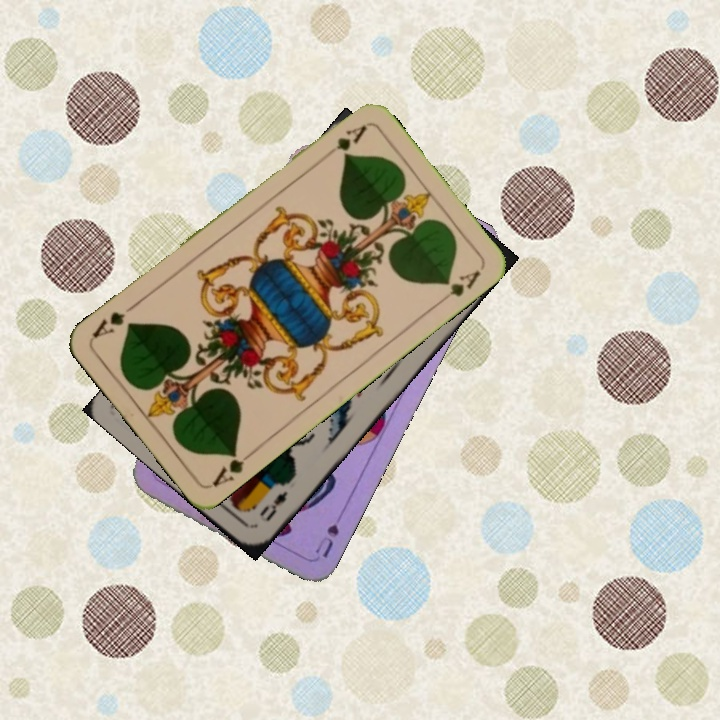EO: (255, 477, 293, 524)
GA: (208, 445, 258, 490), (318, 121, 370, 160)
SU: (311, 520, 342, 561)
